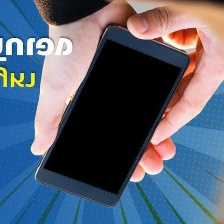phone: (30, 18, 196, 209)
